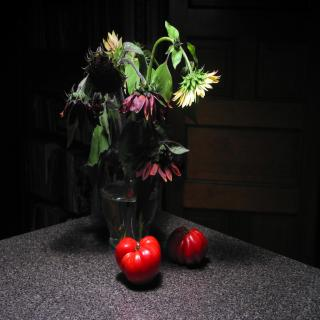tomato: (115, 236, 160, 278), (168, 225, 203, 268)
